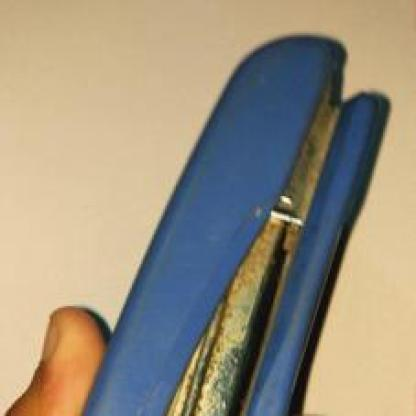stapler: (103, 40, 390, 414)
